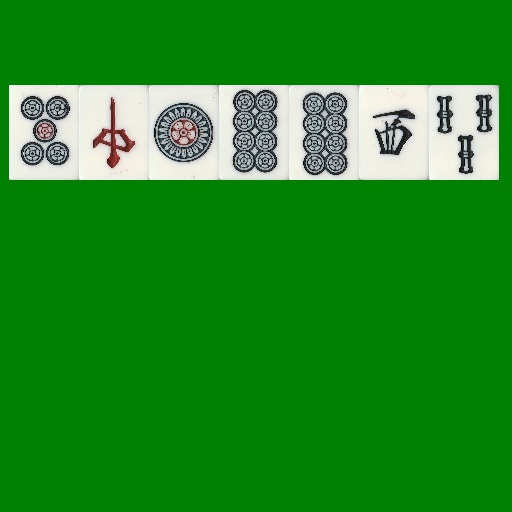1p: (149, 85, 219, 180)
3s: (429, 85, 499, 180)
5p: (9, 85, 79, 180)
8p: (219, 85, 289, 180), (289, 85, 359, 180)
tyun: (79, 85, 149, 180)
west: (359, 85, 429, 180)
